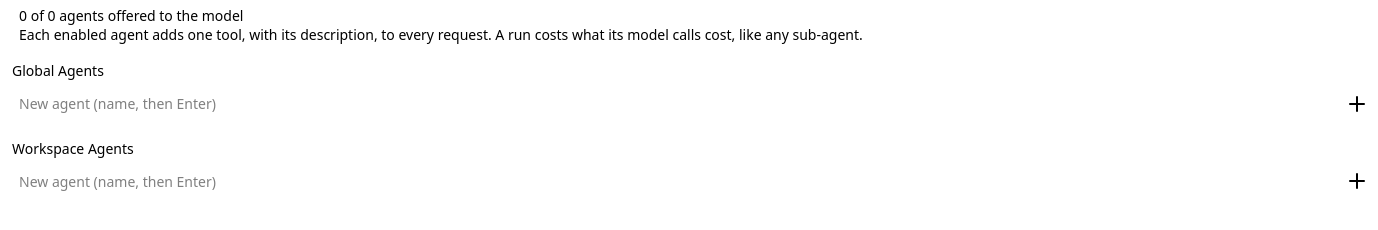
Test case: AgentsTab › rejects a name that cannot be a file name
In the field named "New global agent name": point(681, 104) [19,93,1344,114], type "bad name!"
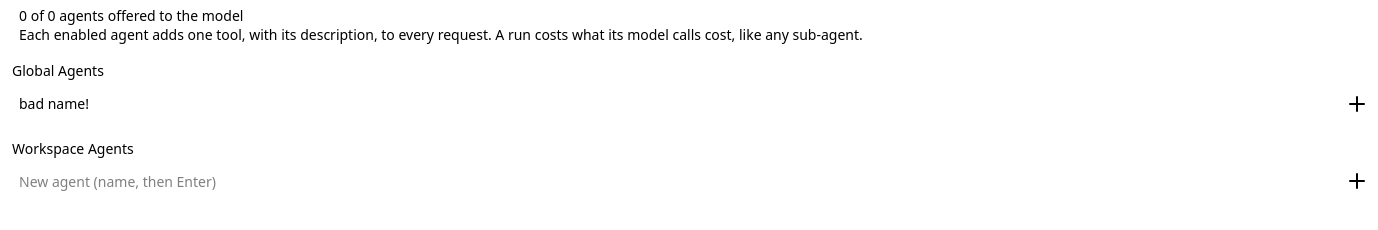
Click the 1st button named "New agent": point(1357, 104) [1344,92,1371,116]
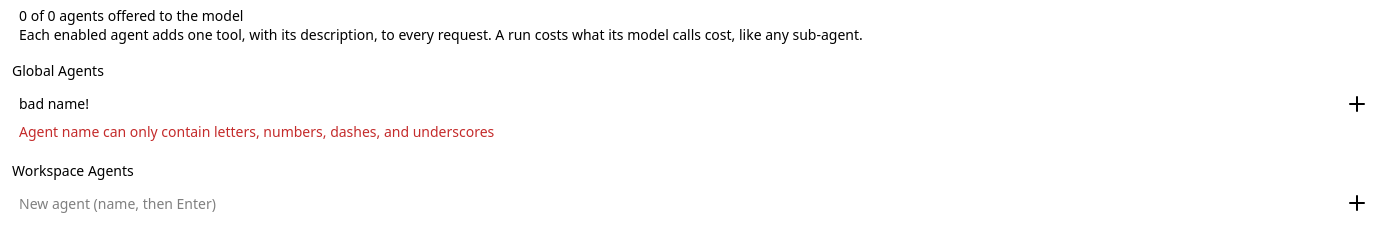
Result: the text "can only contain letters" is shown at [19,122,494,141]
